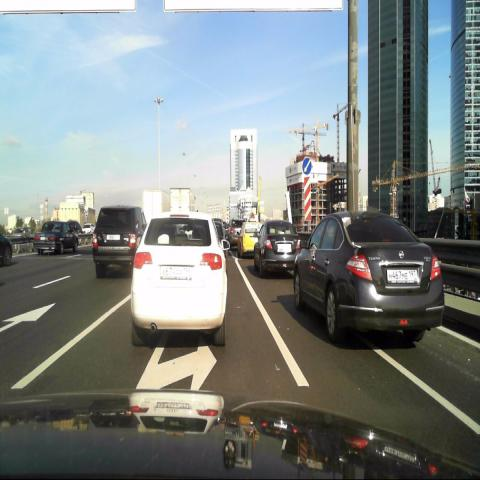4_2_2: (301, 158, 312, 174)
